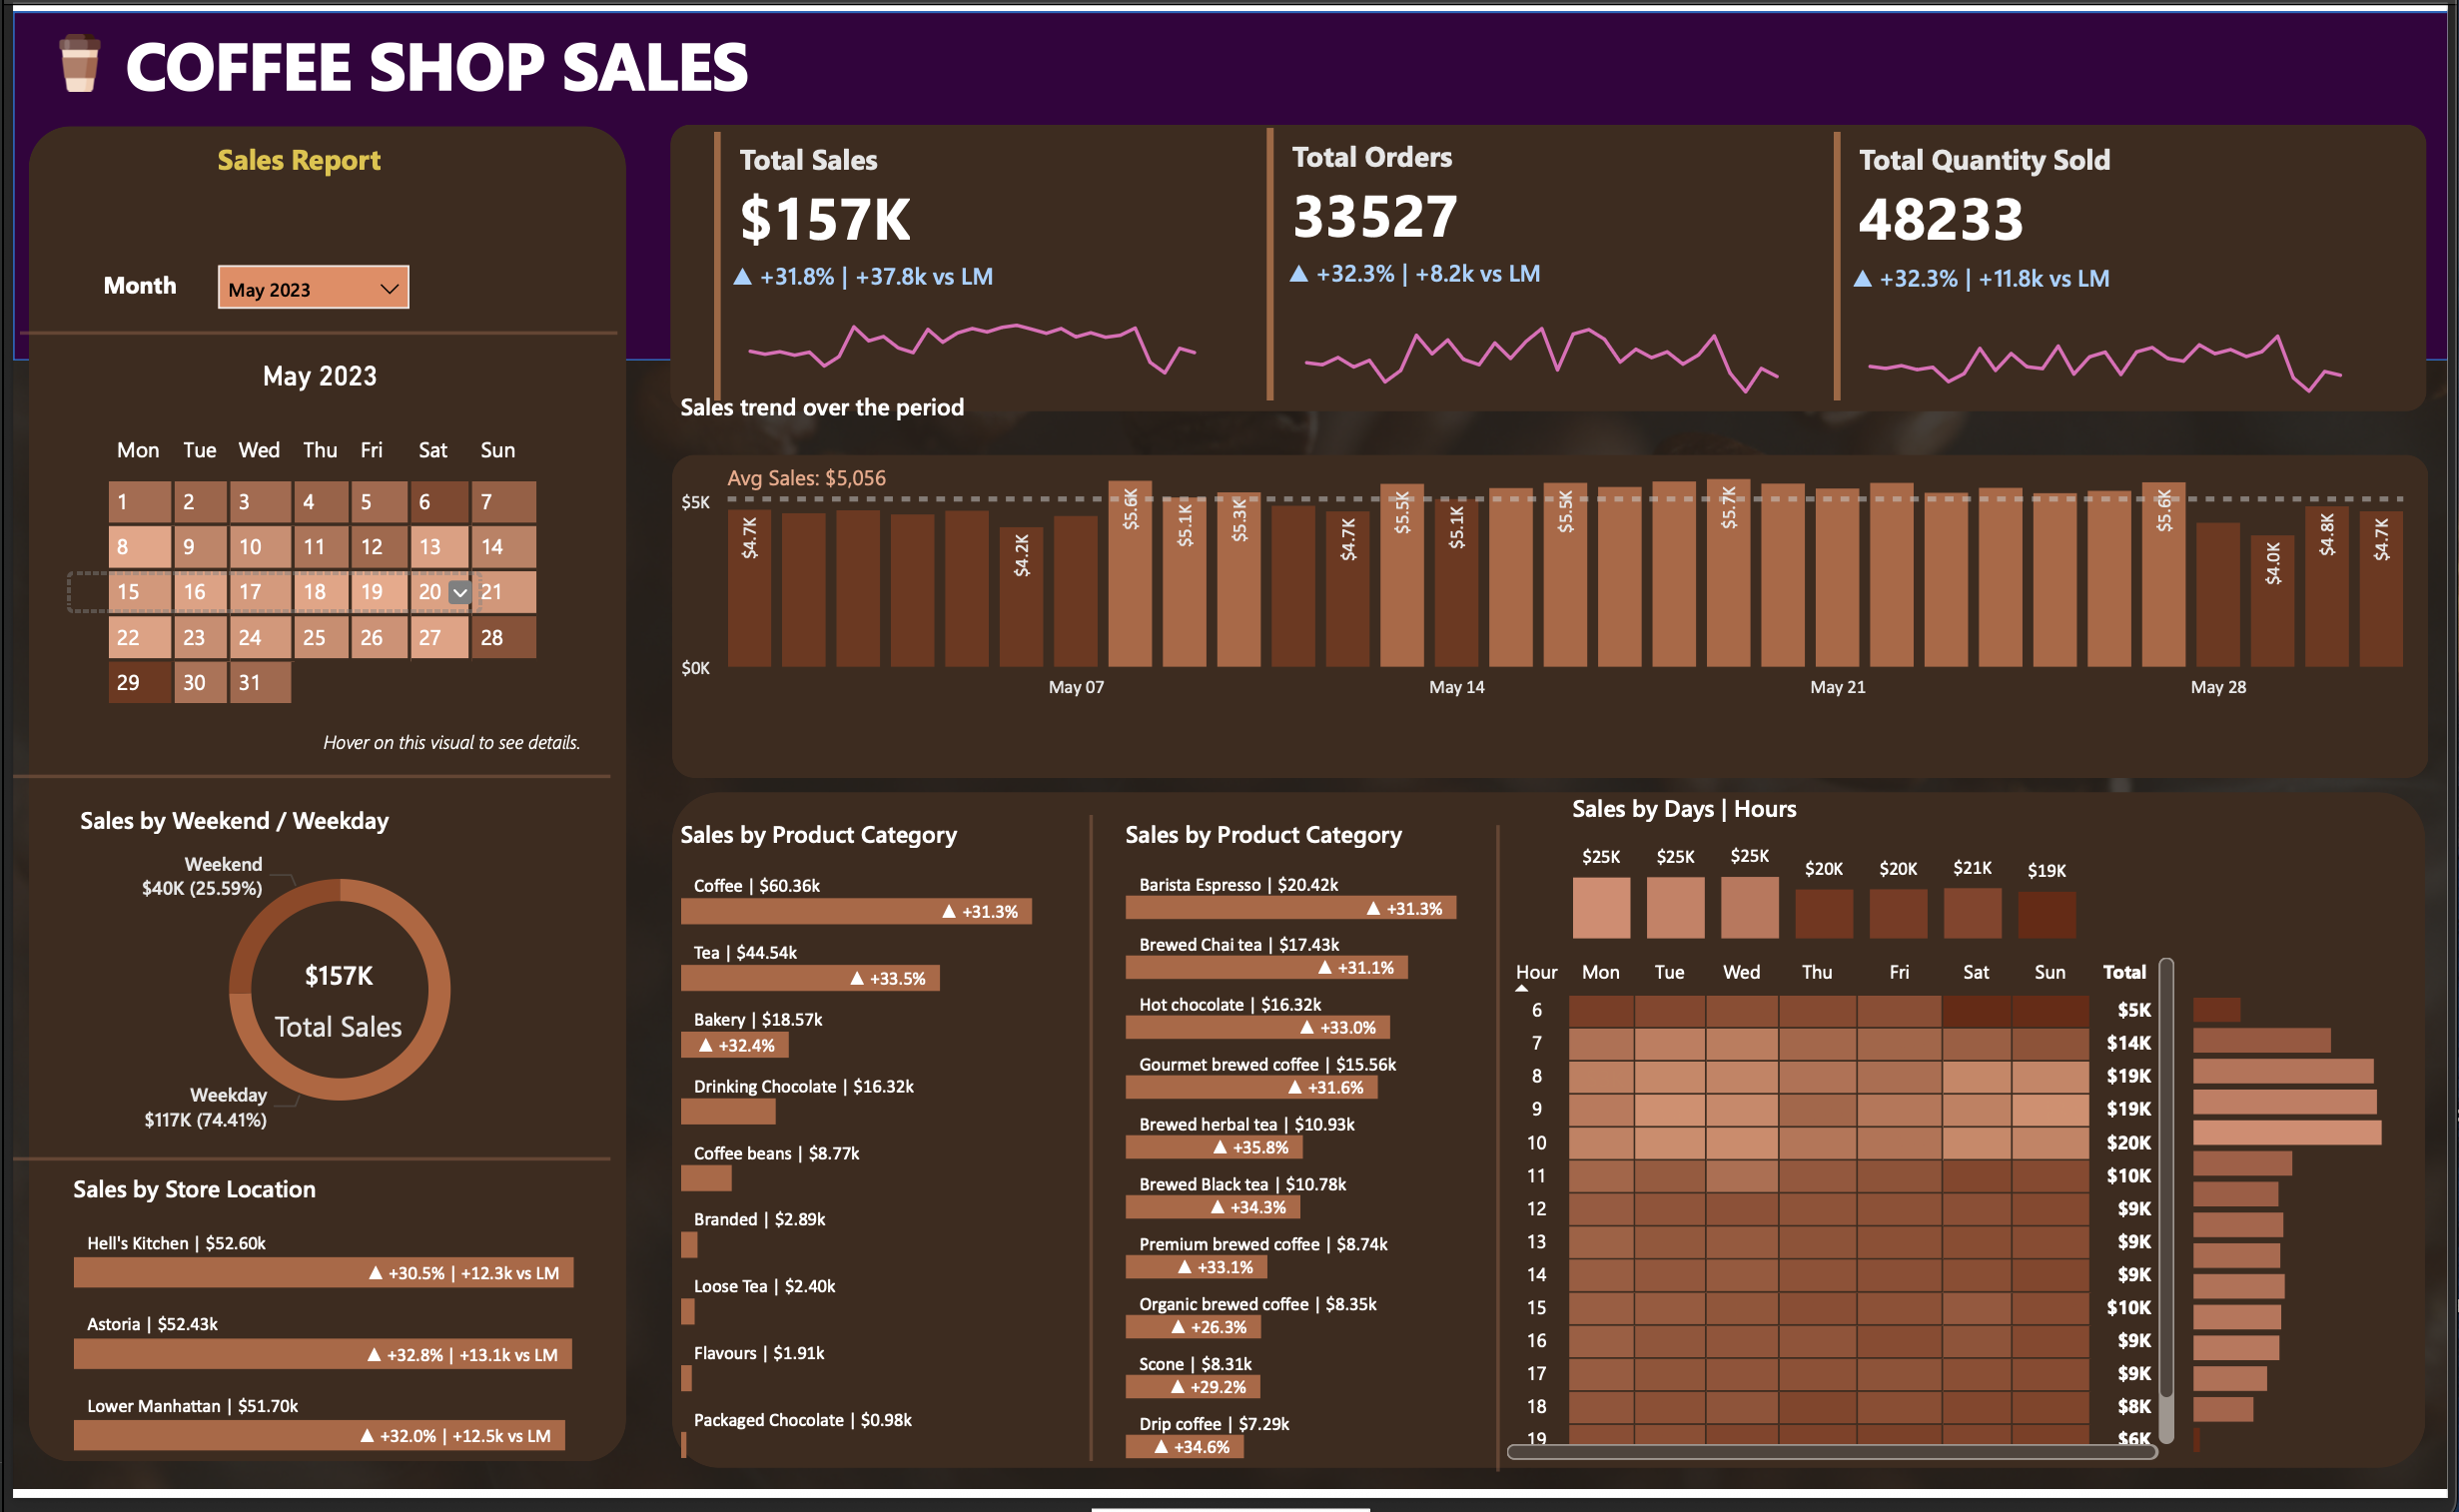

The dashboard page shown, as its layout file describes it:
{"tool":"powerbi","page":{"name":"Page 1","canvas":[1400,850],"ordinal":0},"visuals":[{"type":"shape","box":[0,0,1400.8,200.9],"z":0},{"type":"cardVisual","fields":{"Data":["Transactions.Total Orders"]},"box":[716.3,62,317.3,167.1],"z":0,"group":"g2"},{"type":"cardVisual","fields":{"Data":["Transactions.Total Quantity Sold"]},"box":[1042.1,63.7,324.9,165.2],"z":0,"group":"g3"},{"type":"cardVisual","fields":{"Data":["Transactions.Total Sales"]},"box":[398.1,63.8,309.8,165.9],"z":0,"group":"g1"},{"type":"shape","box":[9.4,65.7,343.6,768],"z":1000},{"type":"lineChart","fields":{"Category":["Date Table.Date.Variation.Date Hierarchy.Year","Date Table.Date.Variation.Date Hierarchy.Quarter","Date Table.Date.Variation.Date Hierarchy.Month","Date Table.Date.Variation.Date Hierarchy.Day"],"Y":["Transactions.Total Orders"]},"box":[729.7,141.2,300.4,84.5],"z":1000,"group":"g2"},{"type":"lineChart","fields":{"Y":["Transactions.Total Sales"],"Category":["Date Table.Date.Variation.Date Hierarchy.Year","Date Table.Date.Variation.Date Hierarchy.Quarter","Date Table.Date.Variation.Date Hierarchy.Month","Date Table.Date.Variation.Date Hierarchy.Day"]},"box":[409.2,143,285.4,86.4],"z":1000,"group":"g1"},{"type":"lineChart","fields":{"Category":["Date Table.Date.Variation.Date Hierarchy.Year","Date Table.Date.Variation.Date Hierarchy.Quarter","Date Table.Date.Variation.Date Hierarchy.Month","Date Table.Date.Variation.Date Hierarchy.Day"],"Y":["Transactions.Total Quantity Sold"]},"box":[1053.1,143.2,300.4,84.5],"z":1000,"group":"g3"},{"type":"shape","box":[377.8,64.8,1010,165],"z":2000},{"type":"textbox","box":[60.1,0,384.9,69.5],"z":3000},{"type":"slicer","fields":{"Values":["Date Table.Month Year"]},"box":[112.7,140.8,120.2,39.4],"z":4000},{"type":"group","id":"g1","title":"Group 1","box":[398.1,63.8,309.8,165.9],"z":5000},{"type":"group","id":"g2","title":"Group 1","box":[716.3,62,317.3,167.1],"z":6000},{"type":"group","id":"g3","title":"Group 1","box":[1042.1,63.7,324.9,165.2],"z":7000},{"type":"pivotTable","fields":{"Rows":["Date Table.Week Number"],"Columns":["Date Table.Day Name"],"Values":["Min(Date Table.Day Number)"]},"box":[24.4,234.7,317.3,206.6],"z":8000},{"type":"card","fields":{"Values":["Min(Date Table.Month Year)"]},"box":[127.7,185.9,97.6,48.8],"z":9000},{"type":"card","fields":{"Values":["Transactions.Foot Note"]},"box":[142.7,403.7,219.7,37.6],"z":10000},{"type":"shape","box":[0,424.4,343.6,31.9],"z":11000},{"type":"shape","box":[3.8,169,343.6,31.9],"z":12000},{"type":"donutChart","title":"Sales by Weekend / Weekday","fields":{"Category":["Date Table.Weekend / Weekday"],"Y":["Transactions.Total Sales"]},"box":[33.8,456.3,308,195.3],"z":13000},{"type":"card","fields":{"Values":["Transactions.Total Sales"]},"box":[131.4,538.9,112.7,56.3],"z":14000},{"type":"shape","box":[0,644.1,343.6,31.9],"z":15000},{"type":"clusteredBarChart","title":"Sales by Store Location","fields":{"Category":["Transactions.store_location"],"Y":["Transactions.Place Holder","Transactions.Total Sales"]},"box":[30,668.5,323,167.1],"z":16000},{"type":"shape","box":[379.3,255.4,1010.3,185.9],"z":17000},{"type":"shape","box":[379.3,448.8,1008.4,388.7],"z":18000},{"type":"columnChart","title":"Sales trend over the period","fields":{"Category":["Transactions.transaction_date"],"Y":["Transactions.Total Sales"]},"box":[379.3,217.8,1004.6,185.9],"z":19000},{"type":"clusteredBarChart","title":"Sales by Product Category","fields":{"Y":["Transactions.Place Holder","Transactions.Total Sales"],"Category":["Transactions.product_category"]},"box":[379.3,463.8,240.4,373.7],"z":20000},{"type":"shape","box":[604.7,461.9,30,371.8],"z":21000},{"type":"clusteredBarChart","title":"Sales by Product Category","fields":{"Y":["Transactions.Place Holder","Transactions.Total Sales"],"Category":["Transactions.product_type"]},"box":[634.7,463.8,231,373.7],"z":22000},{"type":"shape","box":[839.4,467.6,30,371.8],"z":23000},{"type":"pivotTable","fields":{"Rows":["Transactions.Hour"],"Columns":["Date Table.Day Name"],"Values":["Transactions.Total Sales"]},"box":[854.4,538.9,394.3,298.6],"z":24000},{"type":"barChart","fields":{"Category":["Transactions.Hour"],"Y":["Transactions.Total Sales"]},"box":[1248.7,554,120.2,279.8],"z":25000},{"type":"columnChart","title":"Sales by Days | Hours","fields":{"Y":["Transactions.Total Sales"],"Category":["Date Table.Day Name"]},"box":[892,448.8,300.4,90.1],"z":26000},{"type":"textbox","box":[46.9,142.7,65.7,37.6],"z":27000},{"type":"textbox","box":[112.7,69.5,120.2,31.9],"z":28000},{"type":"image","box":[16.9,0,43.2,58.2],"z":29000}]}

Visuals, with their boxes in screenshot pixels (x1, y1, x2, y2), scaled from the page's 1400x850 canvas onto the 2459x1512 screenshot:
shape: [x1=0, y1=0, x2=2458, y2=358]
cardVisual - Transactions.Total Orders: [x1=1258, y1=110, x2=1816, y2=407]
cardVisual - Transactions.Total Quantity Sold: [x1=1831, y1=113, x2=2401, y2=407]
cardVisual - Transactions.Total Sales: [x1=699, y1=114, x2=1243, y2=408]
shape: [x1=17, y1=117, x2=620, y2=1483]
lineChart - Date Table.Date.Variation.Date Hierarchy.Year x Date Table.Date.Variation.Date Hierarchy.Quarter: [x1=1281, y1=252, x2=1810, y2=401]
lineChart - Transactions.Total Sales x Date Table.Date.Variation.Date Hierarchy.Year: [x1=719, y1=255, x2=1221, y2=408]
lineChart - Date Table.Date.Variation.Date Hierarchy.Year x Date Table.Date.Variation.Date Hierarchy.Quarter: [x1=1850, y1=255, x2=2377, y2=405]
shape: [x1=663, y1=115, x2=2438, y2=408]
textbox: [x1=106, y1=0, x2=782, y2=124]
slicer - Date Table.Month Year: [x1=198, y1=251, x2=410, y2=321]
"Group 1" group: [x1=699, y1=114, x2=1243, y2=408]
"Group 1" group: [x1=1258, y1=110, x2=1816, y2=407]
"Group 1" group: [x1=1831, y1=113, x2=2401, y2=407]
pivotTable - Date Table.Week Number x Date Table.Day Name: [x1=43, y1=417, x2=600, y2=785]
card - Min(Date Table.Month Year): [x1=225, y1=331, x2=396, y2=417]
card - Transactions.Foot Note: [x1=251, y1=718, x2=636, y2=785]
shape: [x1=0, y1=755, x2=603, y2=812]
shape: [x1=7, y1=301, x2=610, y2=358]
"Sales by Weekend / Weekday" donutChart: [x1=59, y1=812, x2=600, y2=1159]
card - Transactions.Total Sales: [x1=231, y1=959, x2=428, y2=1059]
shape: [x1=0, y1=1145, x2=603, y2=1202]
"Sales by Store Location" clusteredBarChart: [x1=53, y1=1189, x2=620, y2=1486]
shape: [x1=666, y1=454, x2=2441, y2=785]
shape: [x1=666, y1=798, x2=2437, y2=1490]
"Sales trend over the period" columnChart: [x1=666, y1=387, x2=2431, y2=718]
"Sales by Product Category" clusteredBarChart: [x1=666, y1=825, x2=1089, y2=1490]
shape: [x1=1062, y1=822, x2=1115, y2=1483]
"Sales by Product Category" clusteredBarChart: [x1=1115, y1=825, x2=1520, y2=1490]
shape: [x1=1474, y1=832, x2=1527, y2=1493]
pivotTable - Transactions.Hour x Date Table.Day Name: [x1=1501, y1=959, x2=2193, y2=1490]
barChart - Transactions.Hour x Transactions.Total Sales: [x1=2193, y1=986, x2=2404, y2=1483]
"Sales by Days | Hours" columnChart: [x1=1567, y1=798, x2=2094, y2=959]
textbox: [x1=82, y1=254, x2=198, y2=321]
textbox: [x1=198, y1=124, x2=410, y2=181]
image: [x1=30, y1=0, x2=106, y2=104]
